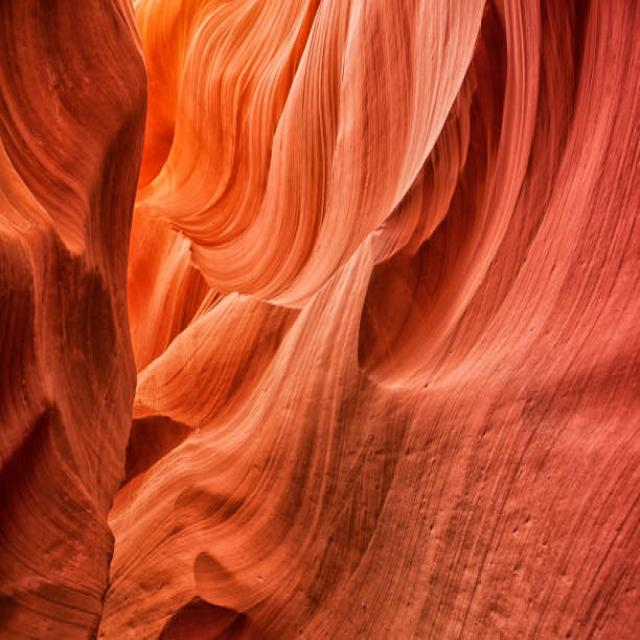Sedimentary: (1, 2, 640, 637)
